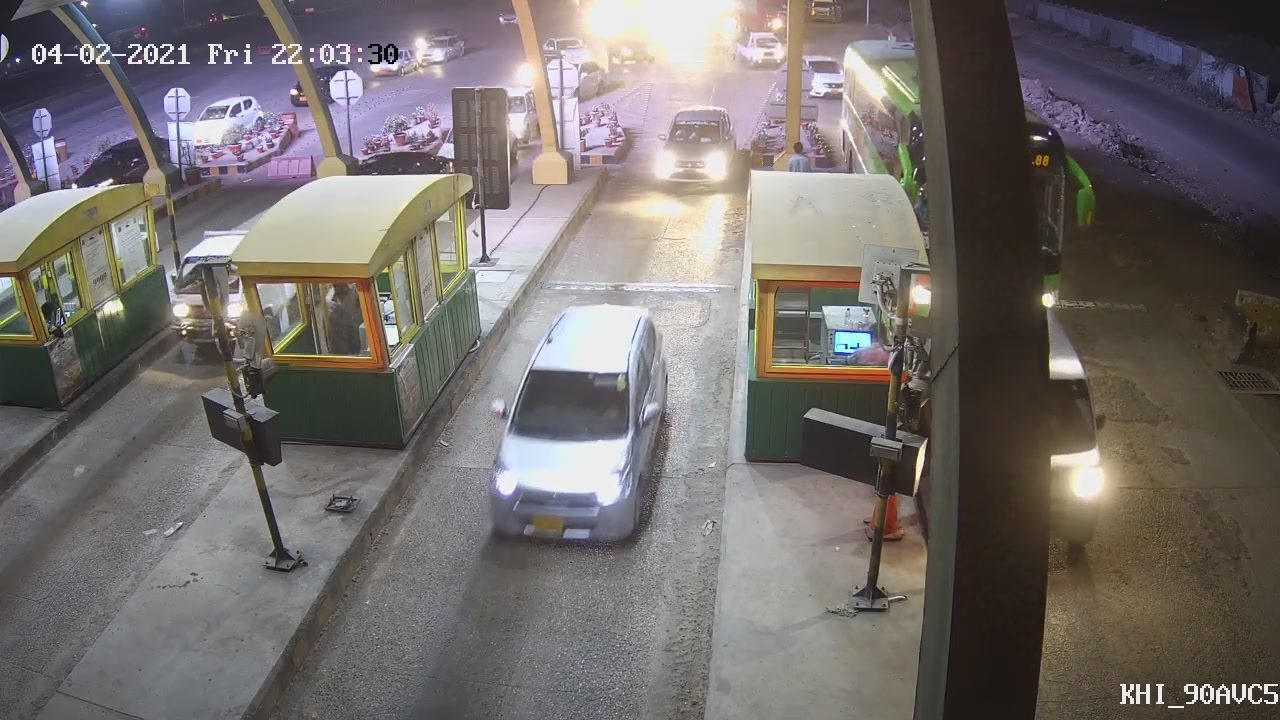F1: (483, 303, 668, 545)
